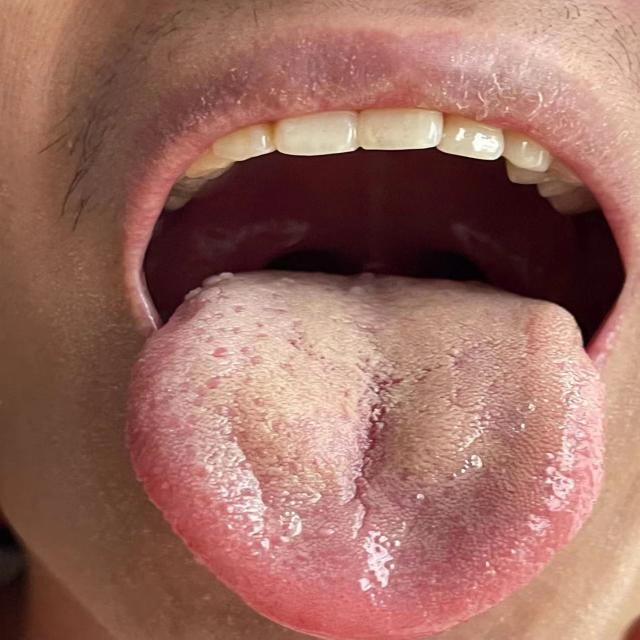baitaishe: (122, 272, 606, 640)
